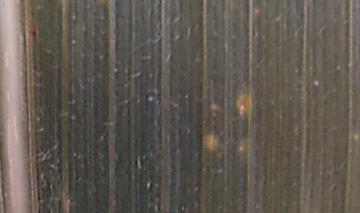tarspot: (31, 27, 38, 40), (73, 173, 81, 181)
